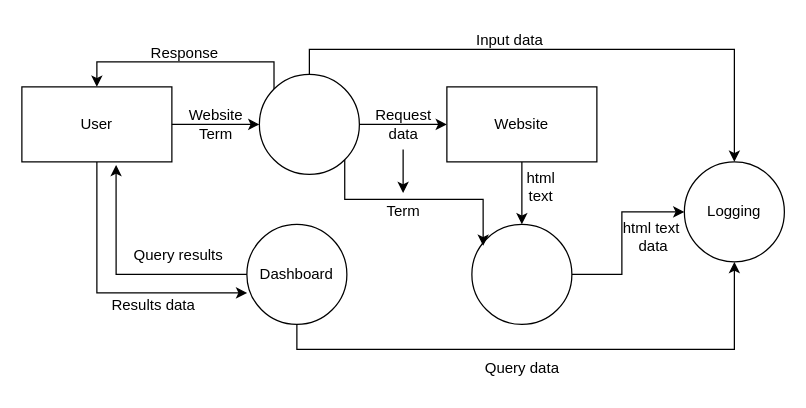
Image size: 806x408. Some labels were removed from this diagram. The shapes that lost their labels are listed below. From the top down, each one's centre as x and y in pixels, then its label:
(x=308, y=123): Retrieve Data
(x=521, y=273): Filter Site
